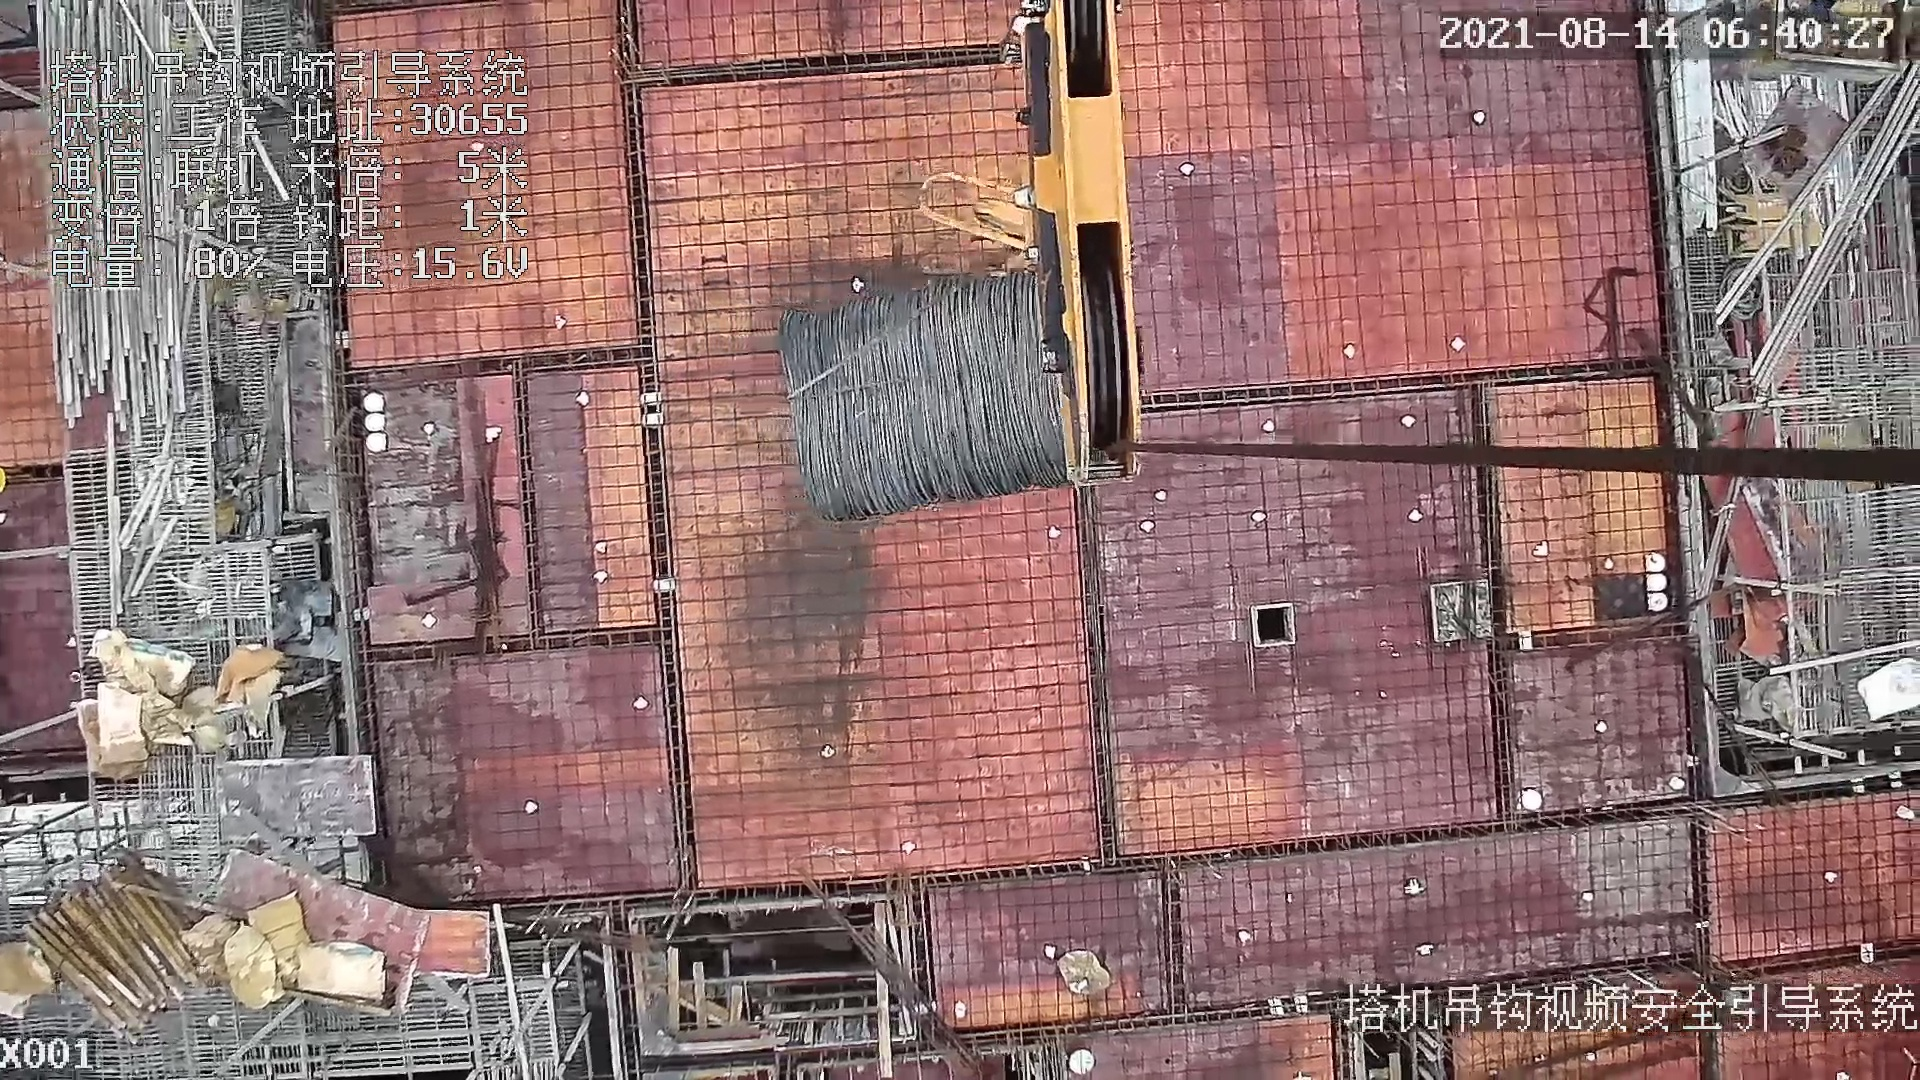hook: (916, 1, 1150, 483)
scaffold: (22, 861, 195, 1023)
